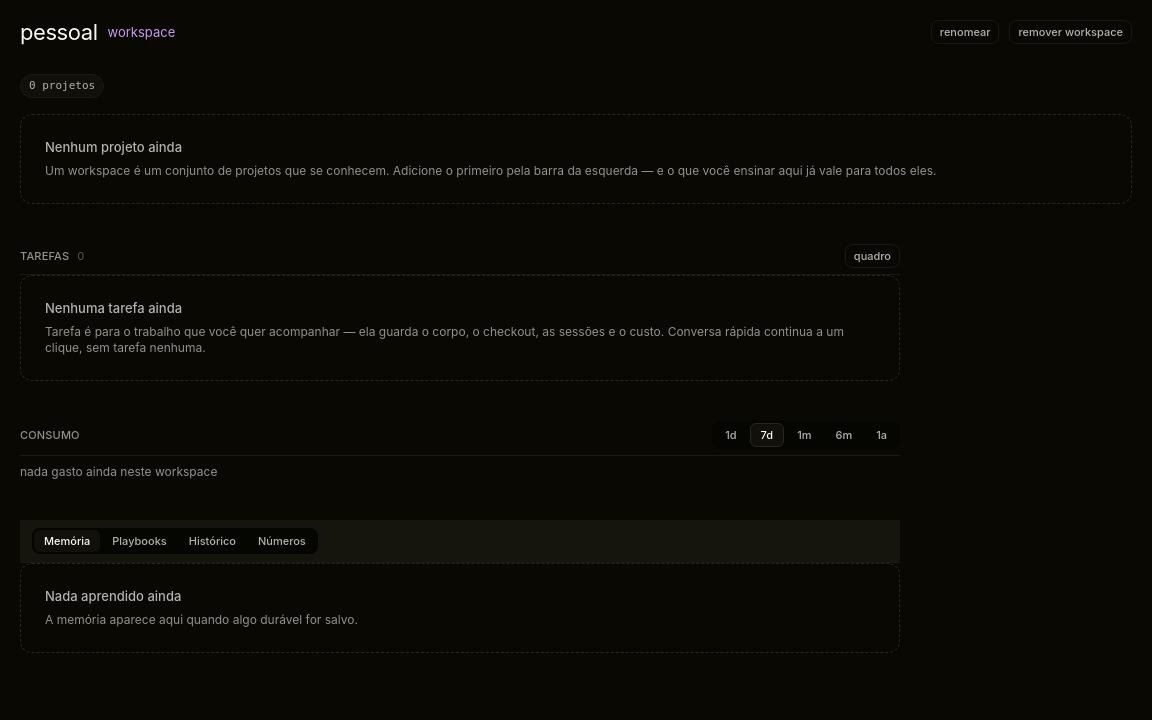
Scenario: remover — o caminho da recusa (W2, T6) › a recusa do daemon aparece como recusa, e a tela continua de pé
Expected: the text "Nenhum projeto ainda" is shown, [45,139,182,155]
Click the button "remover workspace" at (1071, 32), box [1010,20,1132,44]
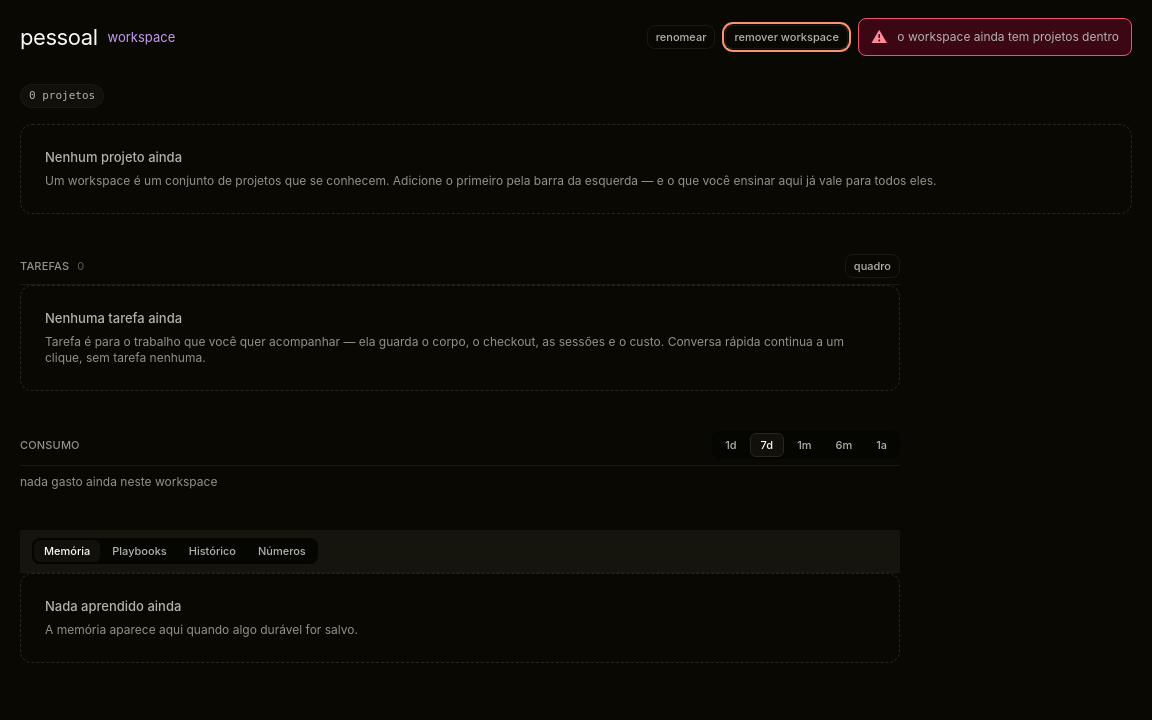
Expected: the button "remover workspace" is enabled, [725,25,848,49]
Result: the message shows "ainda tem projetos dentro" at [897,29,1119,44]
